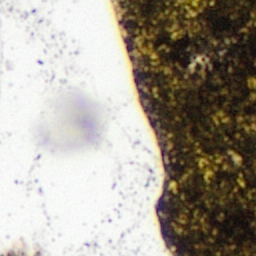cement_matrix: (119, 0, 255, 255)
gravel_crushed_stones: (0, 0, 174, 255)
